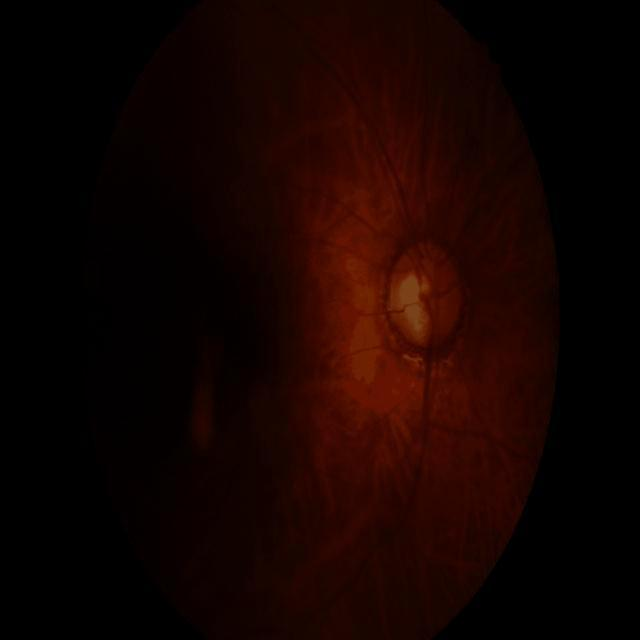cup: (399, 271, 441, 340)
disk: (387, 240, 465, 350)
